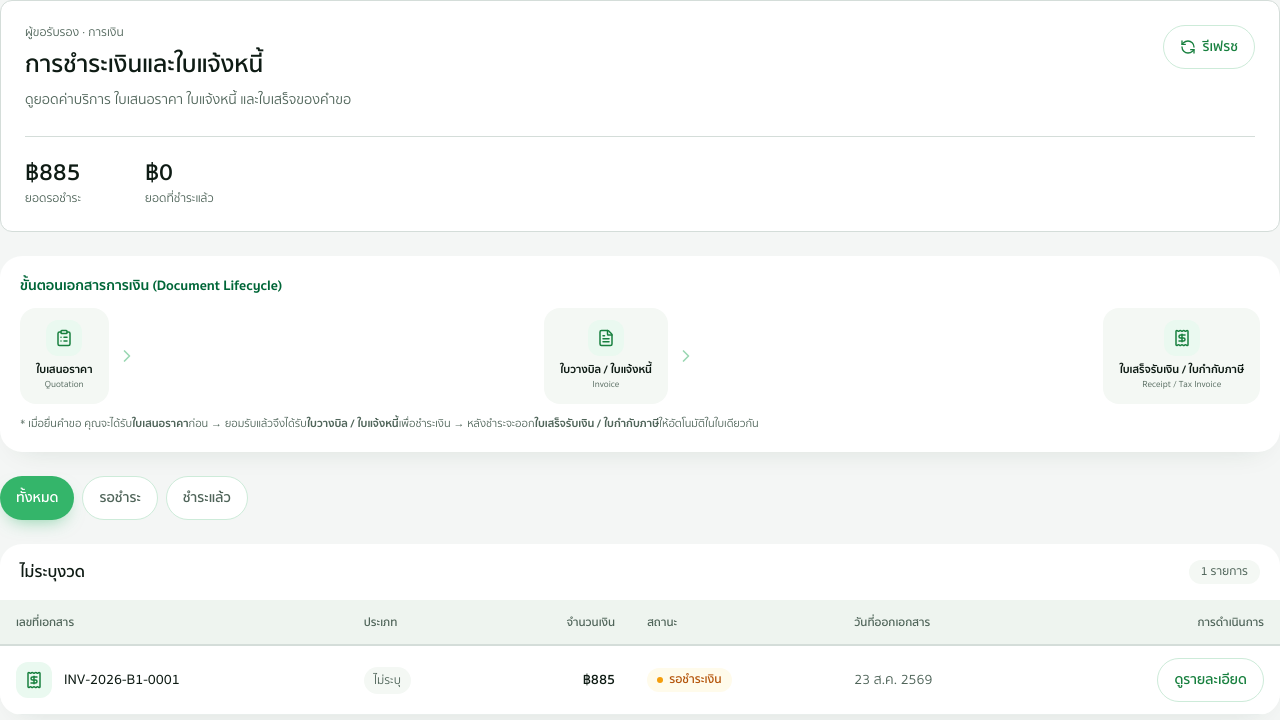
Test case: B1 — invoice PDF download failure is visible to the farmer › clears a previous failure when a retry succeeds
Click the button "ดูรายละเอียด".
click(1211, 680)  # box x1=1158 y1=658 x2=1264 y2=702
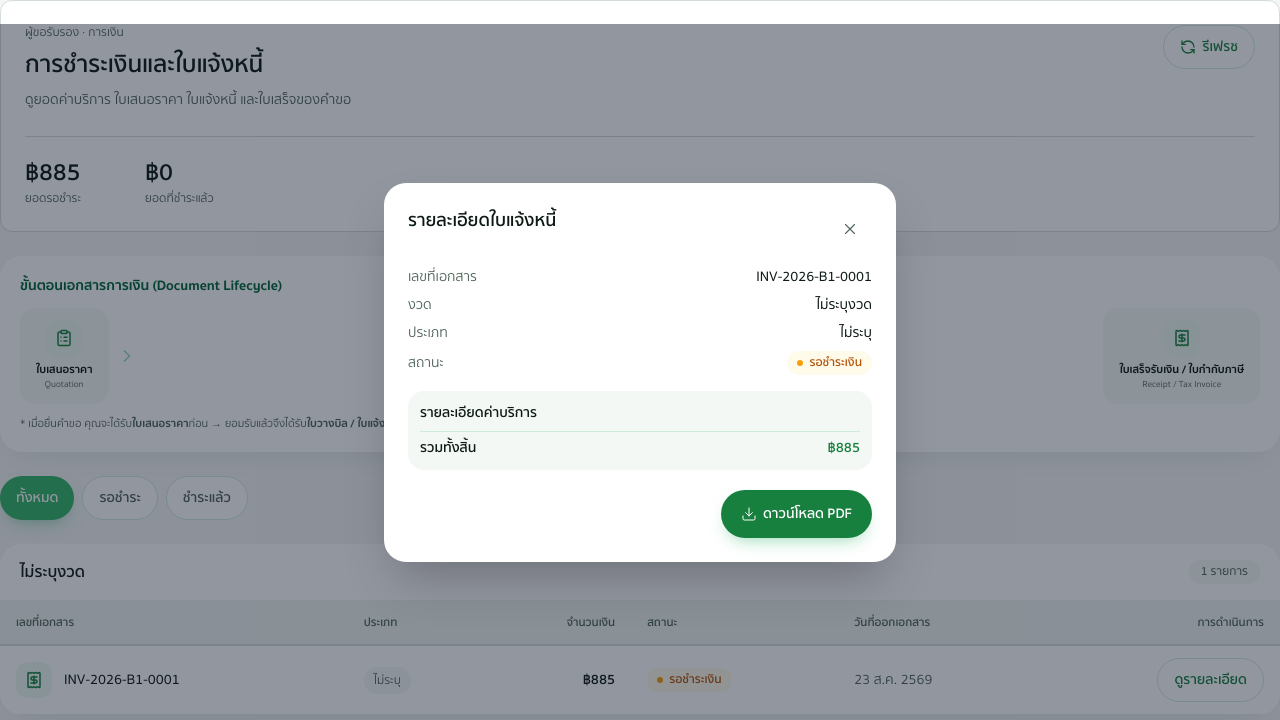
Check: the text "รายละเอียดใบแจ้งหนี้" is shown, box x1=408 y1=206 x2=556 y2=234
Click the button "ดาวน์โหลด PDF".
click(796, 514)  # box x1=721 y1=490 x2=872 y2=538
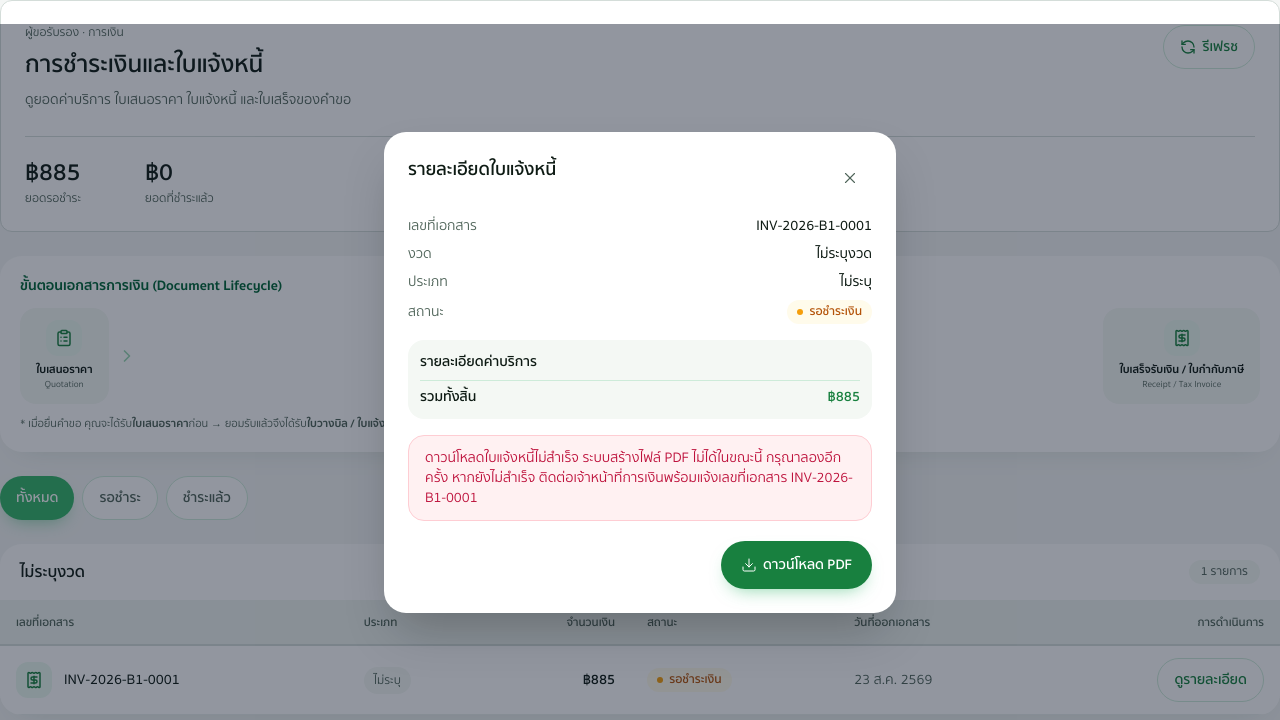
Check: the message is shown, box x1=408 y1=434 x2=872 y2=520
Click the button "ดาวน์โหลด PDF".
click(796, 564)  # box x1=721 y1=540 x2=872 y2=588
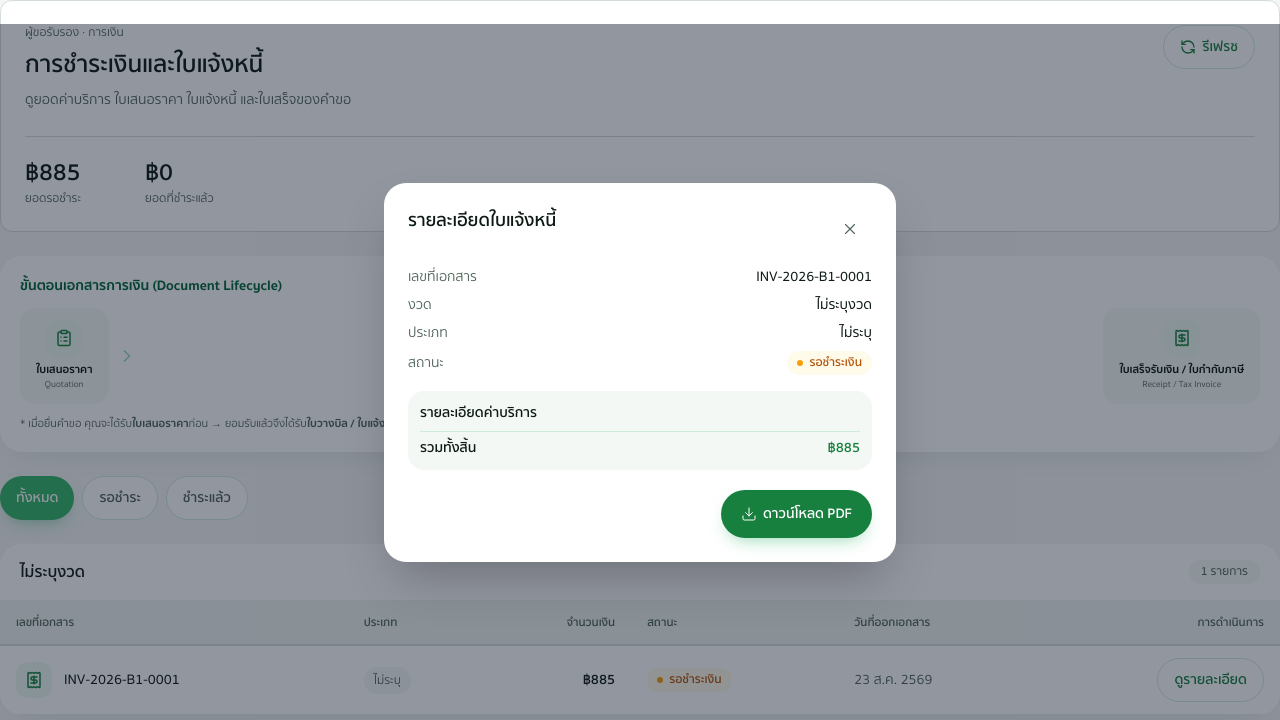
Check: the message is gone
